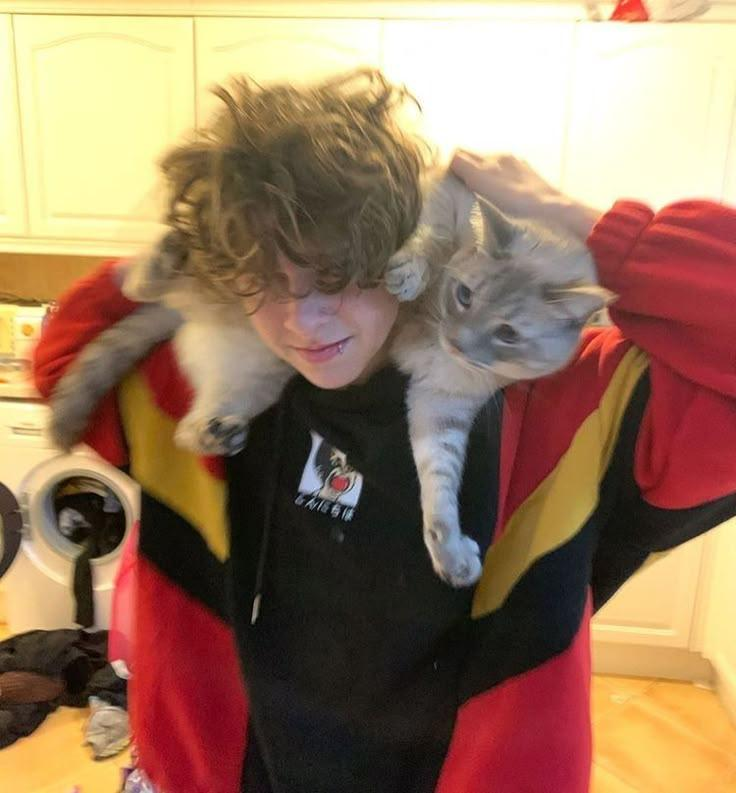kedo: (422, 202, 611, 584)
